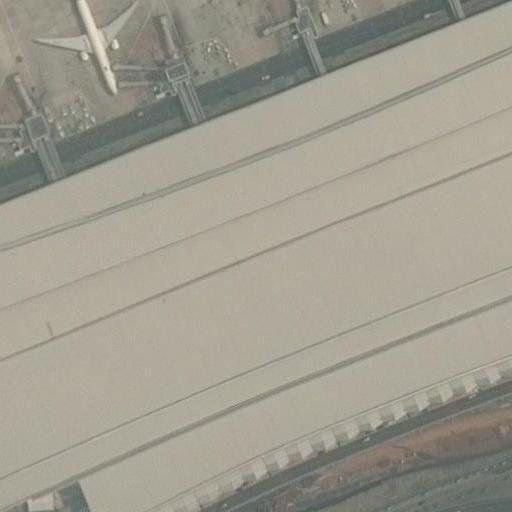Aircraft: (35, 0, 151, 92)
